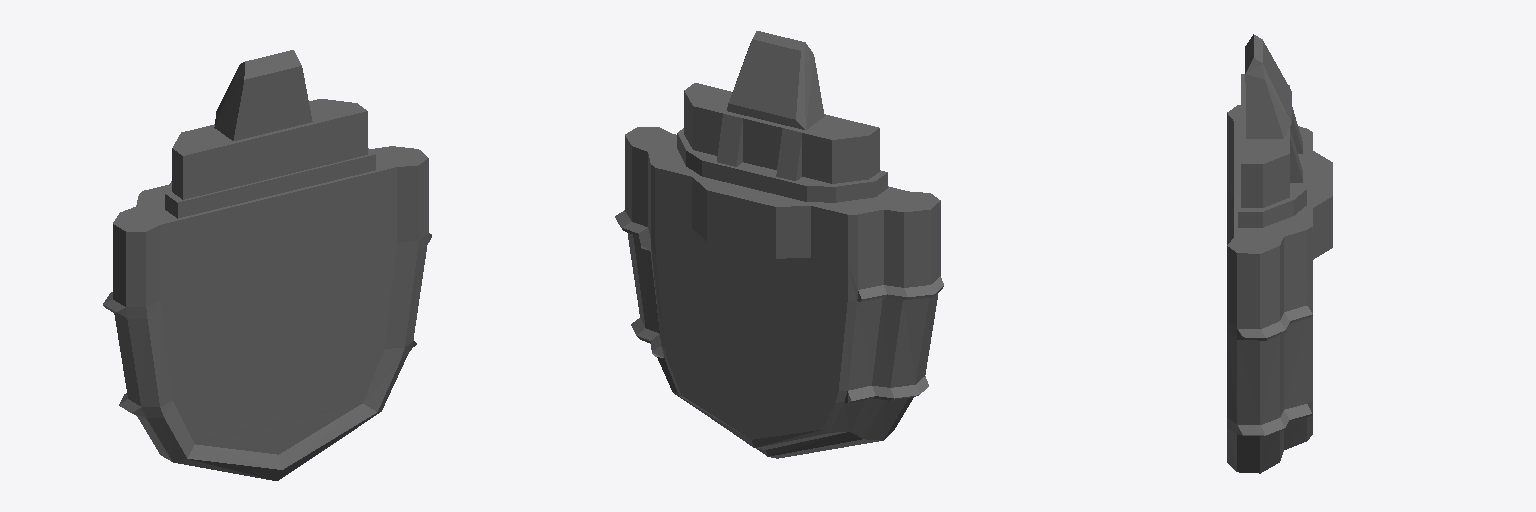
File: body.obj
3 views of the same model, side by side, from view 1: azimuth 30°, elevation 25°; view 2: azimuth 150°, elevation 25°; view 3: azimuth 270°, elevation 25° (orthographic).
Visible parts, largest first — view 1: body; view 2: body; view 3: body.
Part boxes in pixels (left/top/right/bottom): body: left=103, top=50, right=431, bottom=480; body: left=615, top=31, right=943, bottom=458; body: left=1227, top=34, right=1332, bottom=473.
Size of the model in its own units: 16.13 by 20.24 by 4.63.